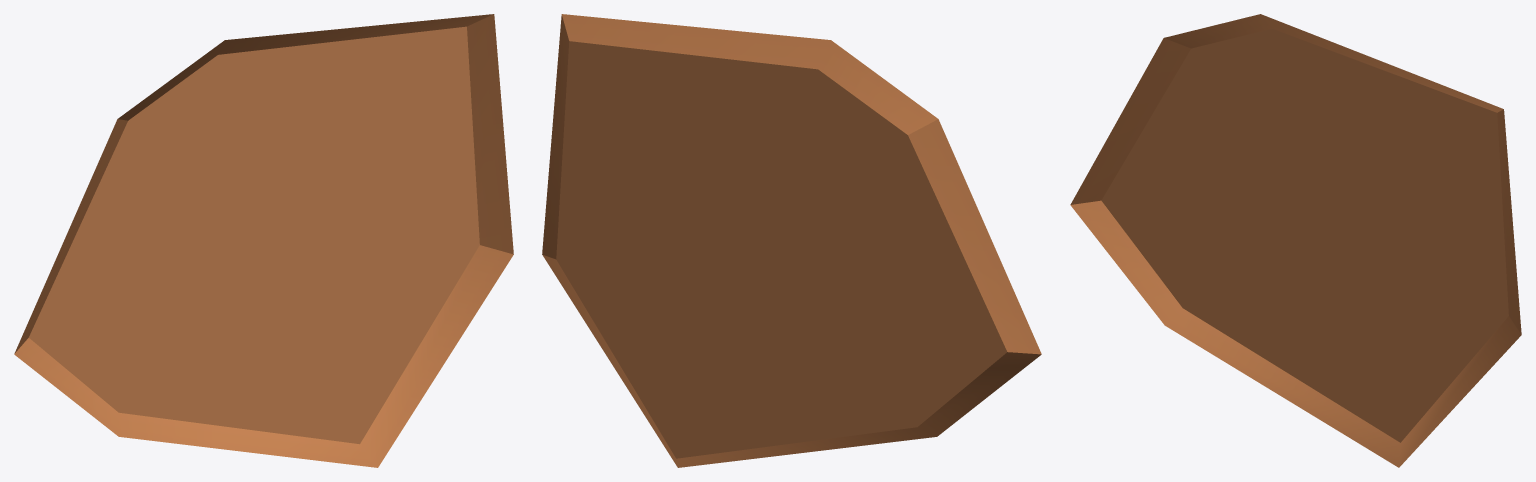
Rendered from Tiles 02.FBX.
3 views of the same model, side by side, from view 1: azimuth 30°, elevation 25°; view 2: azimuth 150°, elevation 25°; view 3: azimuth 330°, elevation 25° (orthographic). The views are drawn at different scales.
Parts seen in each view (by area): view 1: Tiles 02; view 2: Tiles 02; view 3: Tiles 02.
Part boxes in pixels (left/top/right/bottom): Tiles 02: left=14, top=14, right=513, bottom=467; Tiles 02: left=542, top=14, right=1041, bottom=467; Tiles 02: left=1070, top=14, right=1521, bottom=467.
Bounding box in the file's own units: 150 × 133 × 5.15.
1 material, 1 textured.
